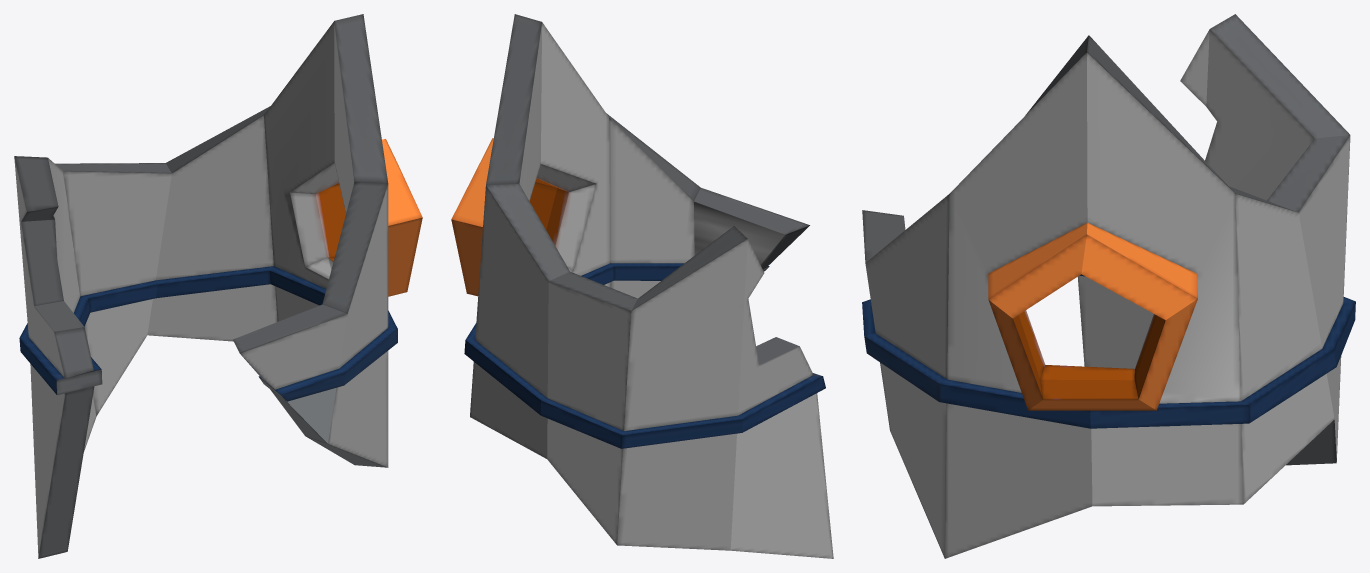
Rendered from qubix_props_DamagedShell_Vedin_001.fbx.
3 renders of one model, left to right at view 1: azimuth 30°, elevation 25°; view 2: azimuth 150°, elevation 25°; view 3: azimuth 270°, elevation 25°, orthographic. The views are drawn at different scales.
Visible parts, largest first — view 1: ship_scratch_1; view 2: ship_scratch_1; view 3: ship_scratch_1.
Part boxes in pixels (x1,y1,x2,y2): ship_scratch_1: (14,14,422,558); ship_scratch_1: (451,14,833,558); ship_scratch_1: (862,14,1355,558).
Bounding box in the file's own units: 218 × 275 × 203.
1 material, 1 textured.
